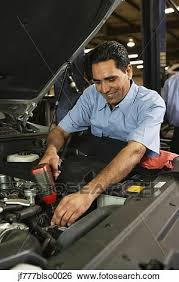Indian_Male: (93, 52, 136, 104)
